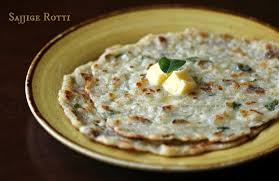rotti: (59, 30, 279, 154)
